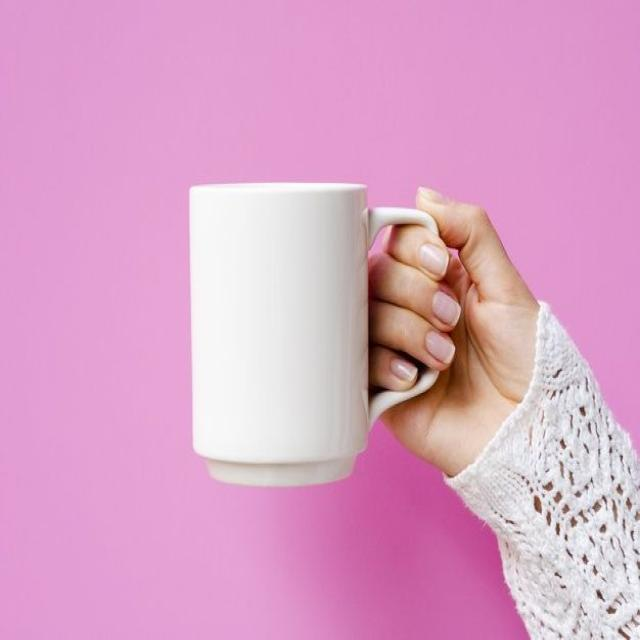glass cup: (188, 183, 440, 488)
